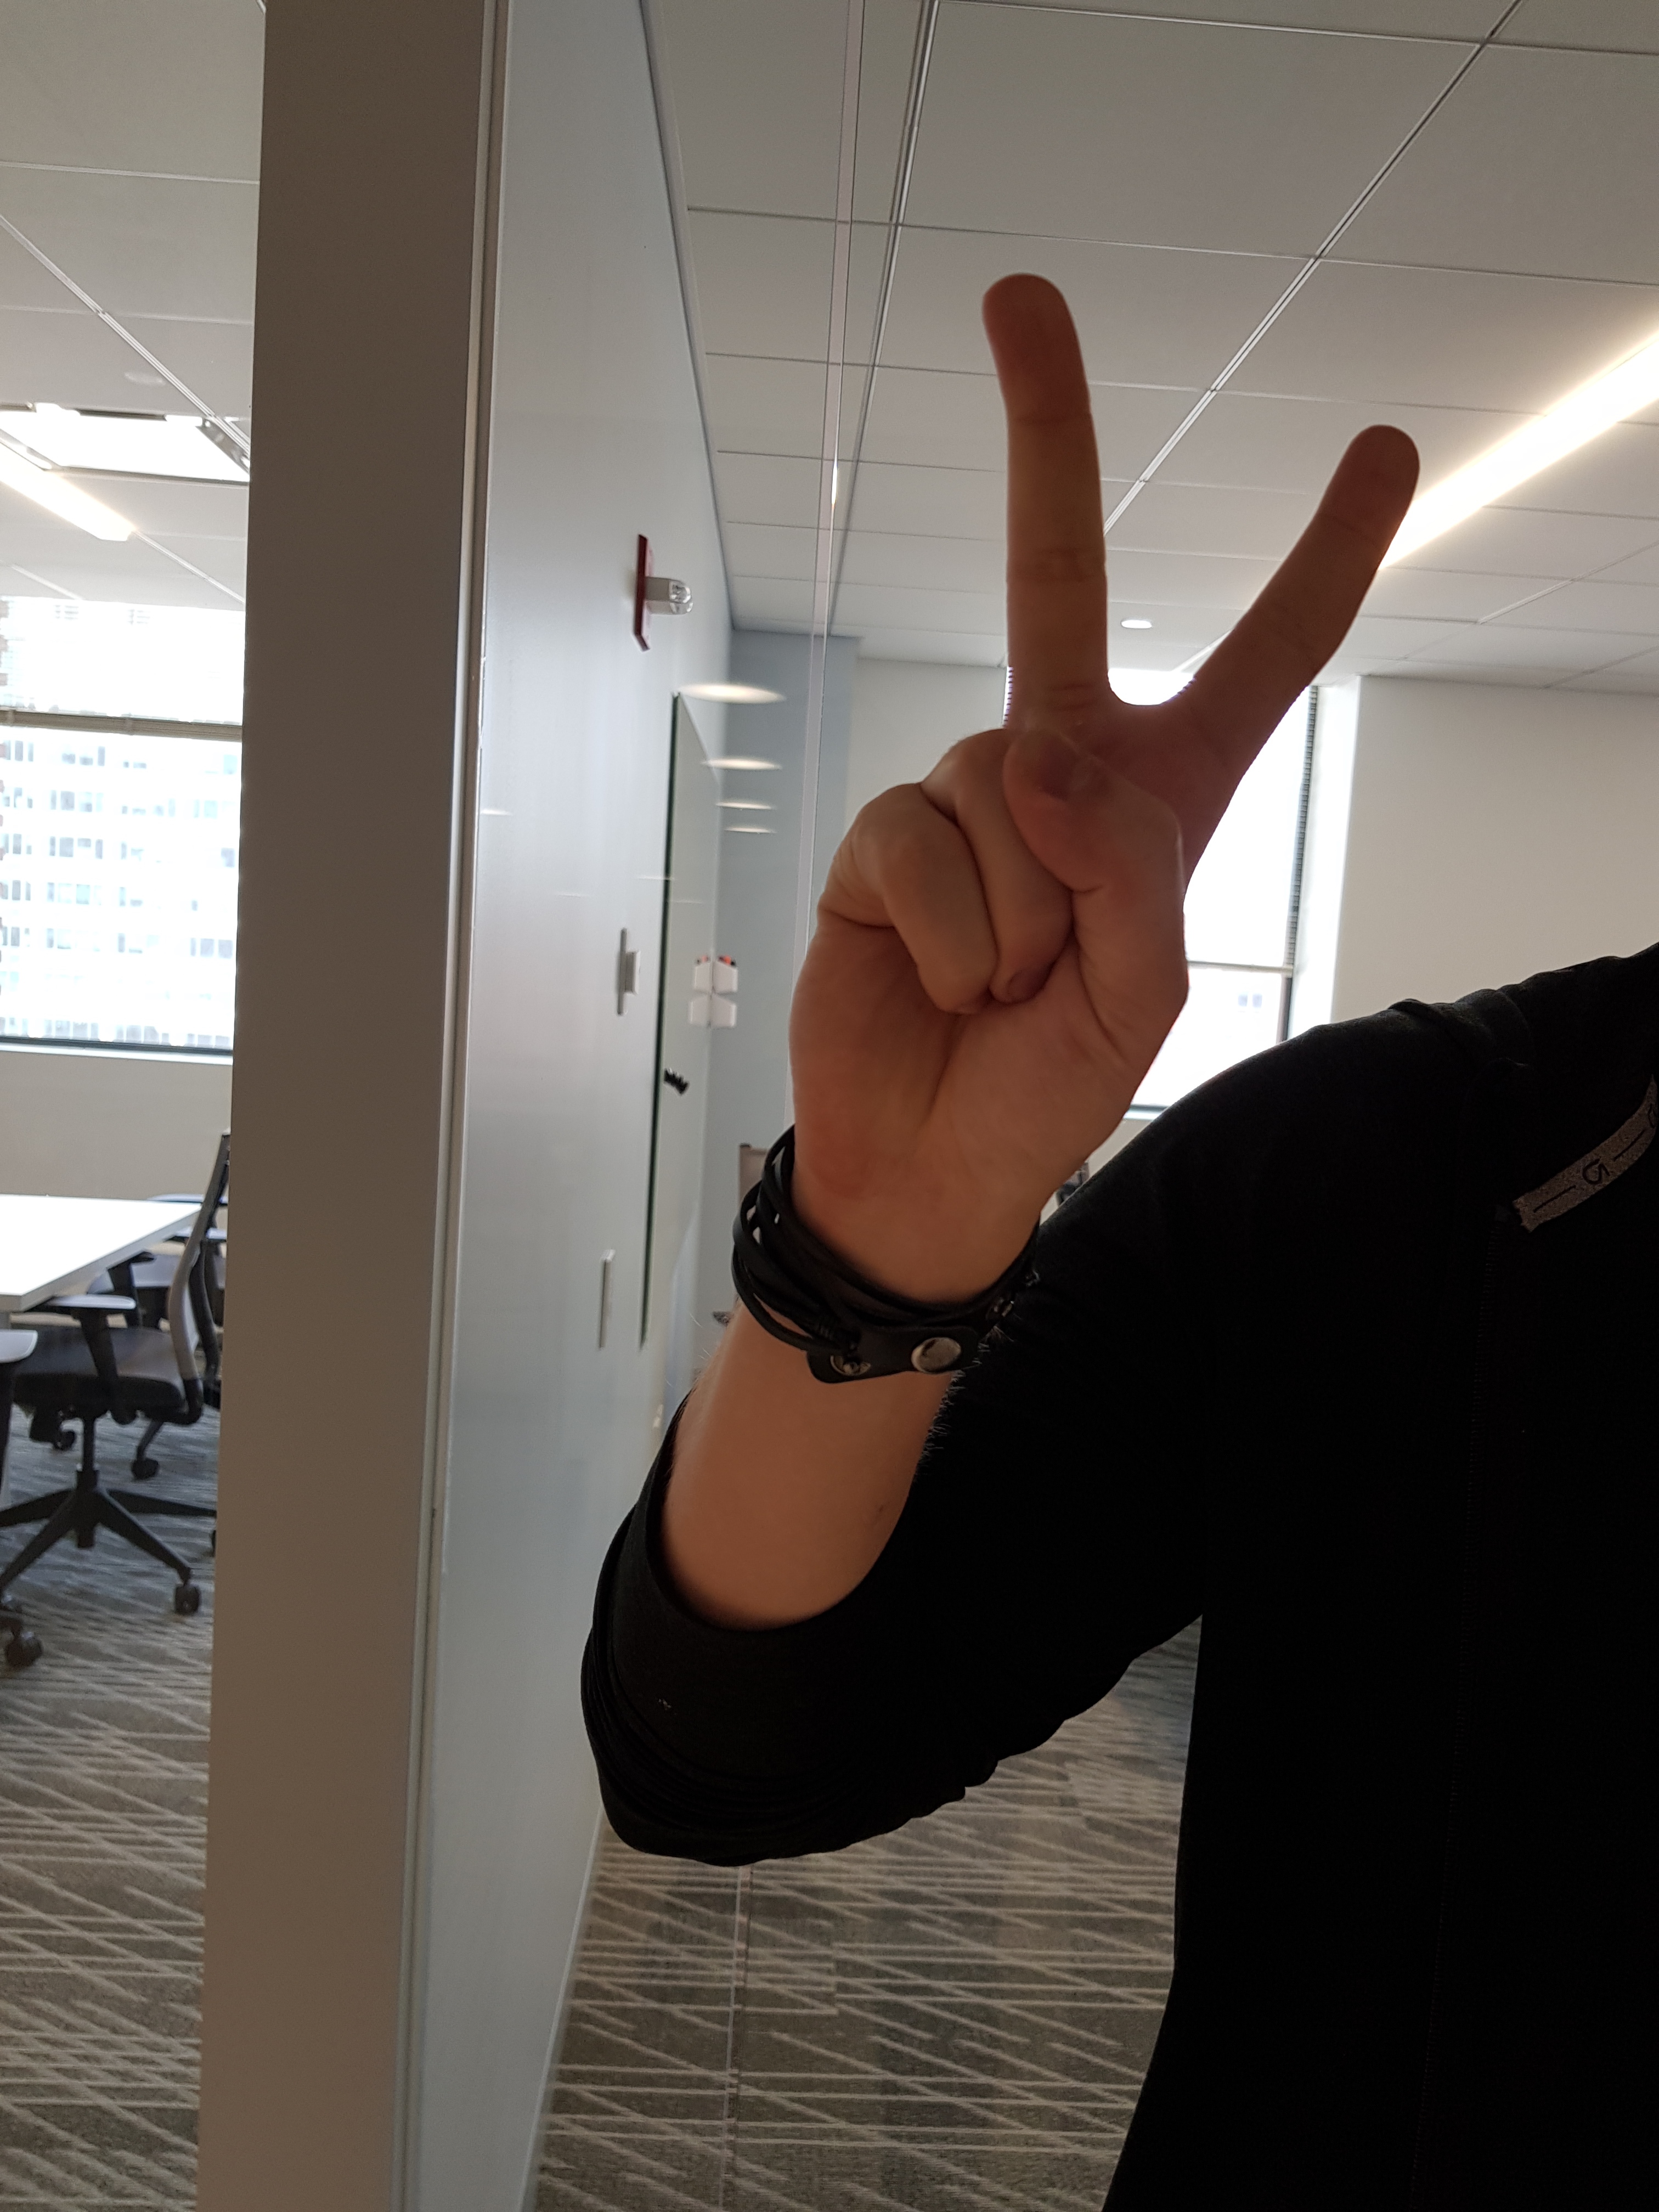v: (748, 239, 1464, 1299)
